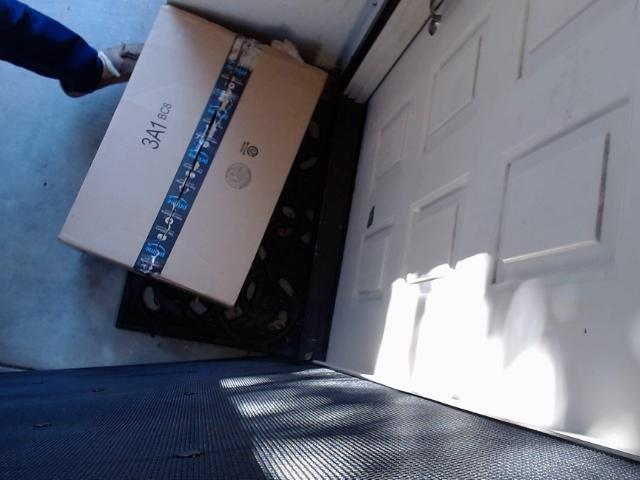box: (74, 16, 332, 306)
